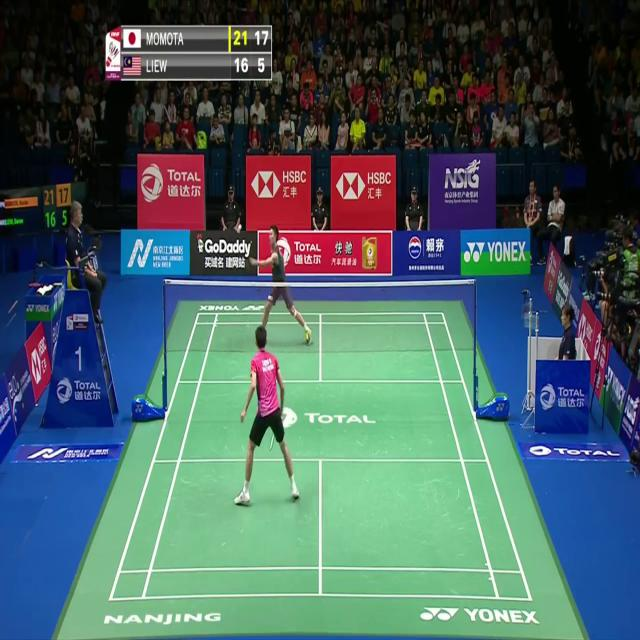Shuttlecock: (237, 222, 243, 233)
